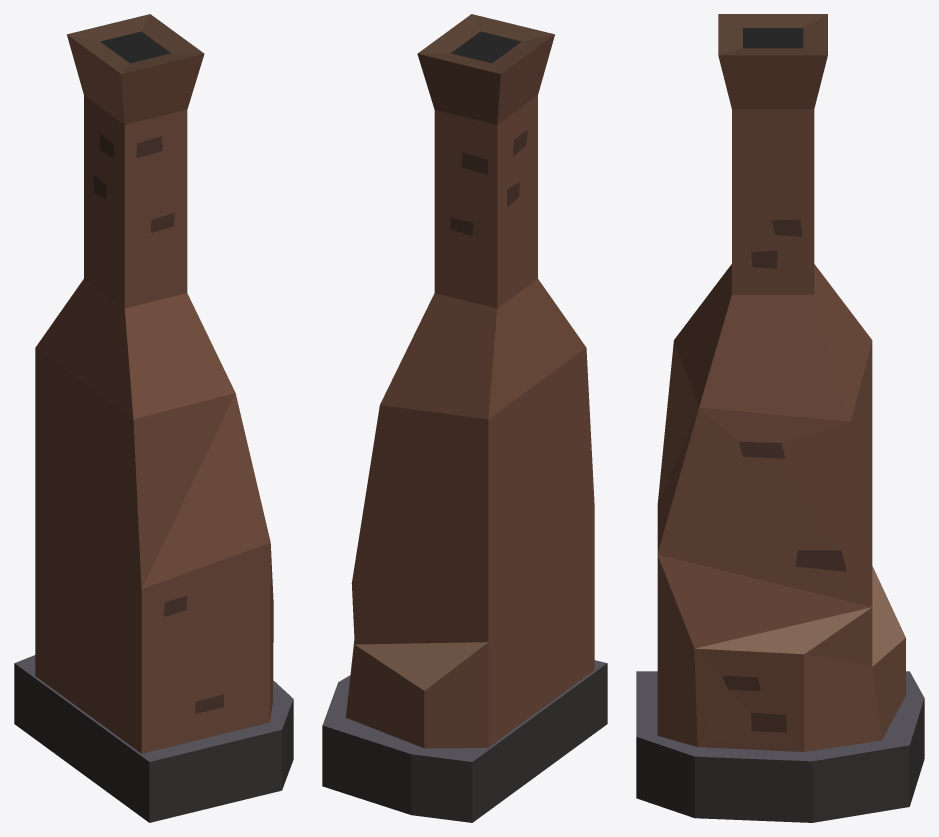
The model's file is TB_Bd_Chimney_C.FBX.
3 views of the same model, side by side, from view 1: azimuth 30°, elevation 25°; view 2: azimuth 150°, elevation 25°; view 3: azimuth 270°, elevation 25° (orthographic).
Parts seen in each view (by area): view 1: TB_Bd_Chimney_C; view 2: TB_Bd_Chimney_C; view 3: TB_Bd_Chimney_C.
Boxes of the visible parts, left/top/right/bottom form: TB_Bd_Chimney_C: left=14, top=14, right=293, bottom=822; TB_Bd_Chimney_C: left=322, top=14, right=607, bottom=822; TB_Bd_Chimney_C: left=636, top=14, right=924, bottom=822.
Size of the model in its own units: 1.74 by 6.54 by 2.35.
